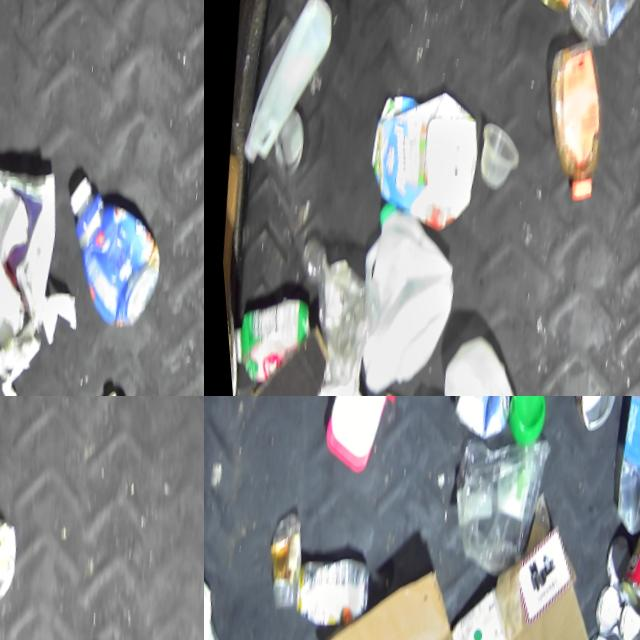can: (279, 558, 370, 636), (601, 500, 640, 624), (442, 396, 514, 453), (529, 0, 589, 29)
milk_jug: (332, 198, 459, 396), (229, 0, 344, 179), (410, 325, 543, 396)
non_white_jug: (44, 176, 168, 343), (523, 28, 614, 217)
